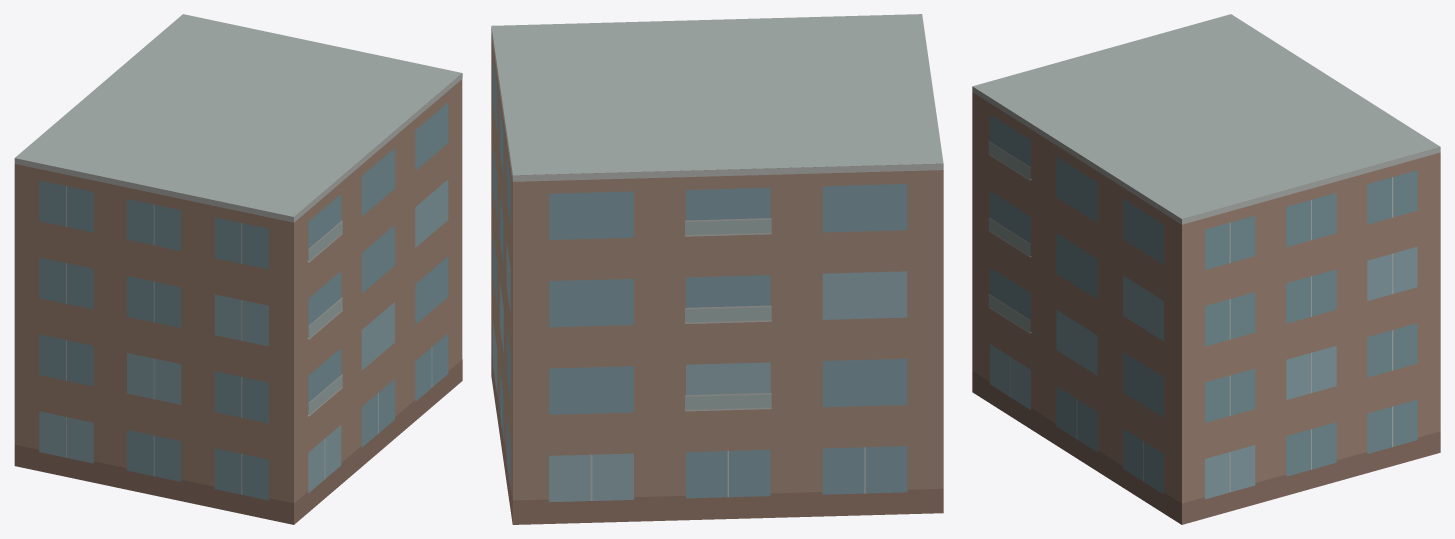
File: survey-upis-32812117.glb
The picture shows the model from 3 angles, left to right: view 1: azimuth 30°, elevation 25°; view 2: azimuth 150°, elevation 25°; view 3: azimuth 270°, elevation 25°; orthographic projection. The views are drawn at different scales.
Parts seen in each view (by area): view 1: survey-upis-32812117.tmp; view 2: survey-upis-32812117.tmp; view 3: survey-upis-32812117.tmp.
Boxes of the visible parts, x1,y1,x2,y2 form: survey-upis-32812117.tmp: (14, 14, 462, 524); survey-upis-32812117.tmp: (491, 14, 943, 524); survey-upis-32812117.tmp: (972, 14, 1440, 524).
Bounding box in the file's own units: 18.85 × 13.1 × 18.19.
